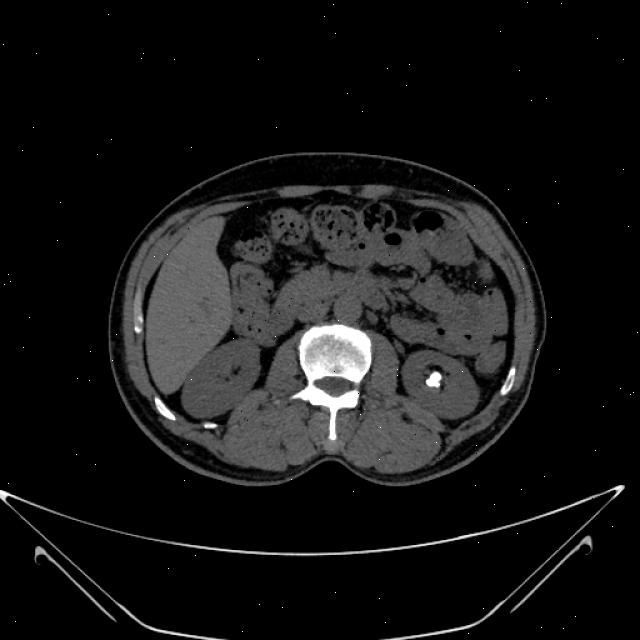kidneystone: (425, 370, 442, 388)
